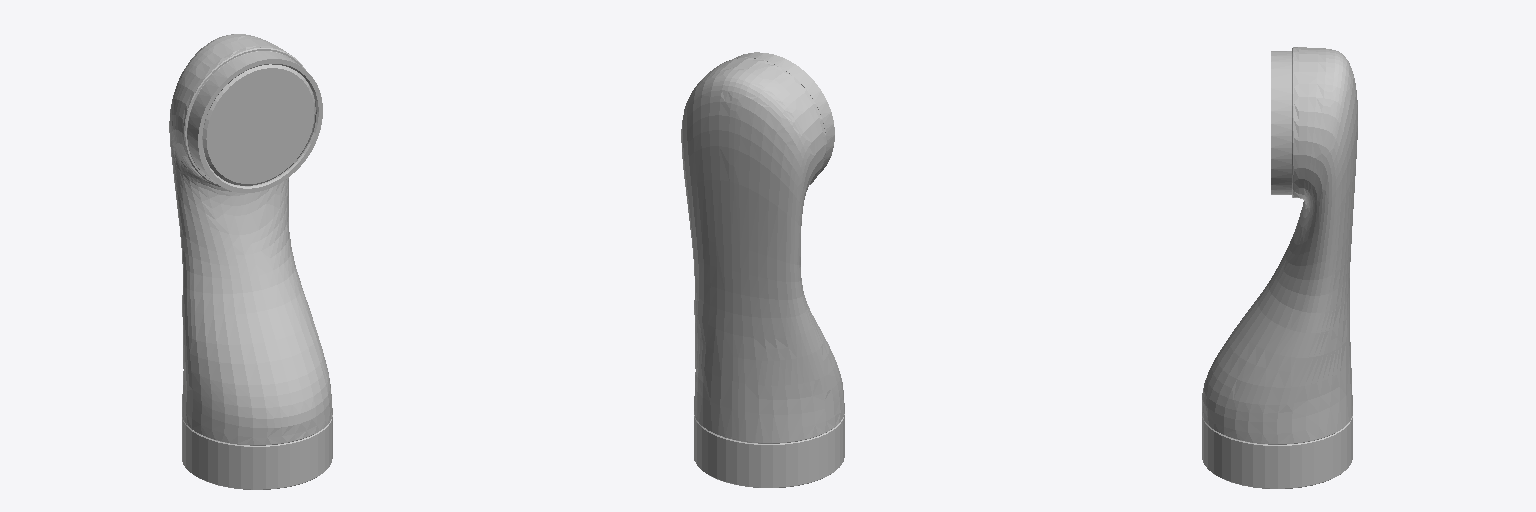
The model's file is half_arm_1_link_visuals_mesh_0.obj.
The picture shows the model from 3 angles: view 1: azimuth 30°, elevation 25°; view 2: azimuth 150°, elevation 25°; view 3: azimuth 270°, elevation 25°; orthographic projection.
Bounding box in the file's own units: 0.092 × 0.2708 × 0.095.